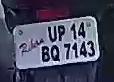1: (69, 20, 77, 42), (71, 41, 79, 60)
3: (87, 39, 97, 58)
4: (77, 22, 88, 40), (78, 41, 87, 60)
7: (63, 42, 71, 60)
B: (40, 45, 50, 62)
P: (57, 23, 67, 43)
Q: (49, 43, 62, 63)
U: (45, 23, 59, 43)
